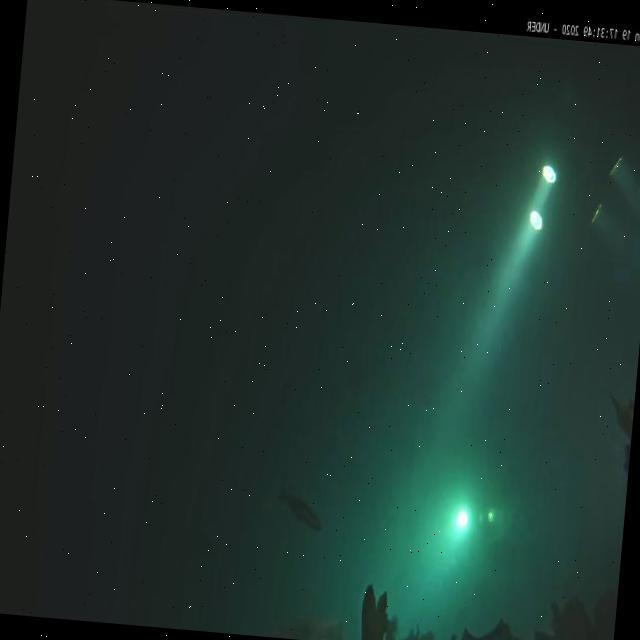fish: (273, 480, 327, 541)
